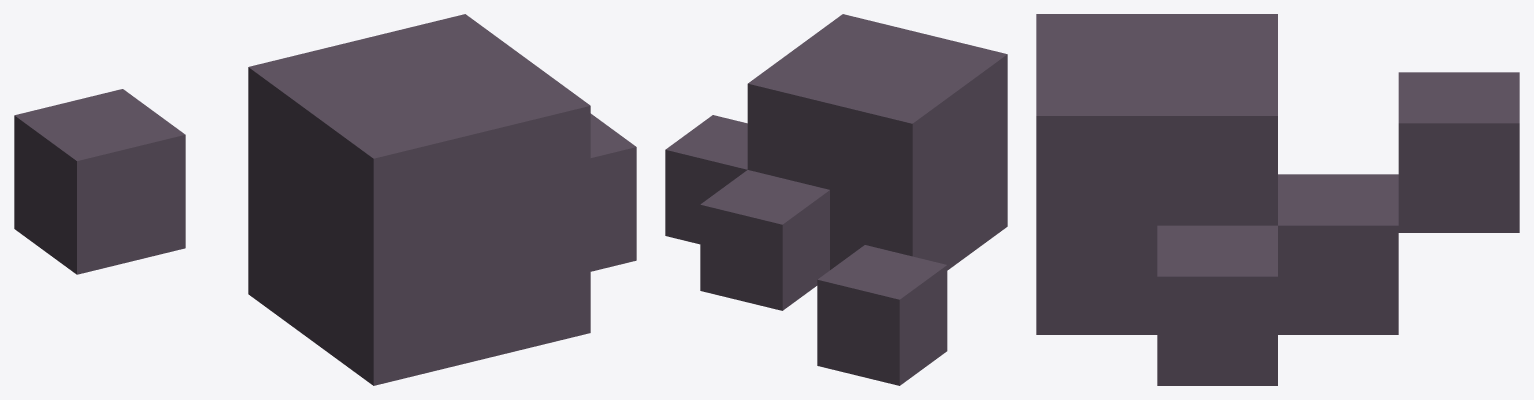
Rendered from LawnModel-12.obj.
The picture shows the model from 3 angles, left to right: view 1: azimuth 30°, elevation 25°; view 2: azimuth 150°, elevation 25°; view 3: azimuth 270°, elevation 25°; orthographic projection. The views are drawn at different scales.
Visible parts, largest first — view 1: LawnModel-12; view 2: LawnModel-12; view 3: LawnModel-12.
Part boxes in pixels (x1=…): LawnModel-12: x1=14, y1=14, x2=636, y2=385; LawnModel-12: x1=665, y1=14, x2=1007, y2=385; LawnModel-12: x1=1036, y1=14, x2=1519, y2=385.
Bounding box in the file's own units: 4 × 2 × 4.
Materials: 1 (1 with a texture image).
